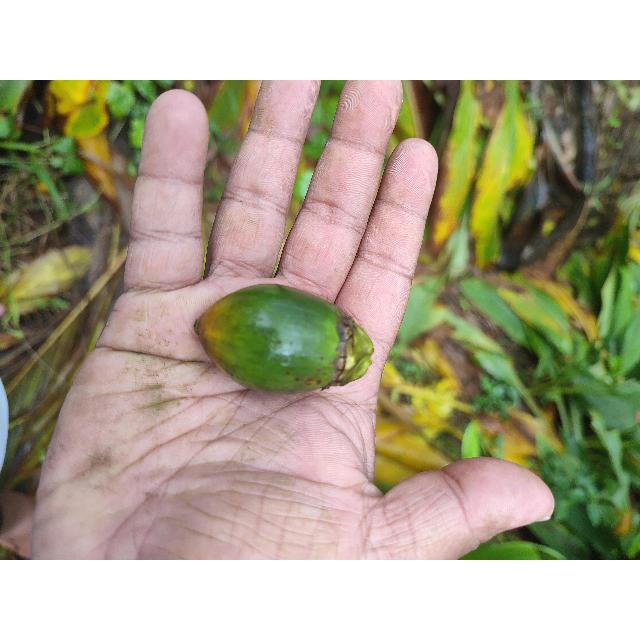good: (192, 284, 375, 395)
